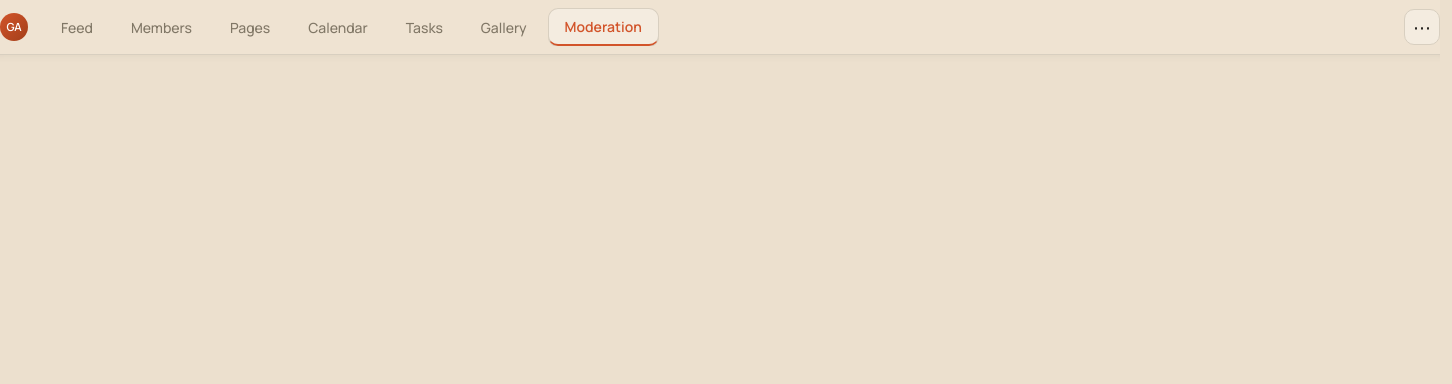
Test: SpaceSubHeader › opens the popover with every tab when ⋯ is clicked
Click the button named "More sections". click: point(1422, 27)
box: [1404, 9, 1440, 45]
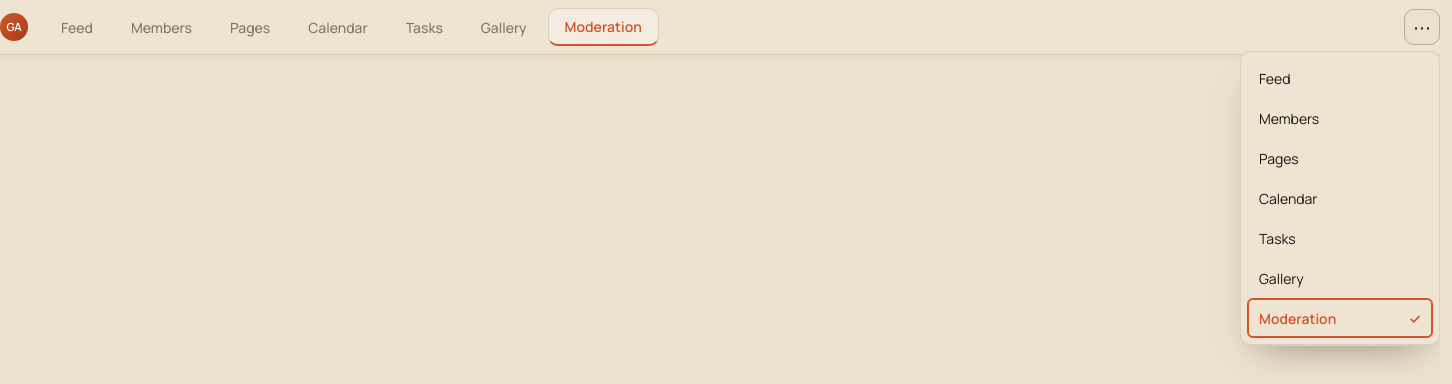
Check: the number of menu items is 7
